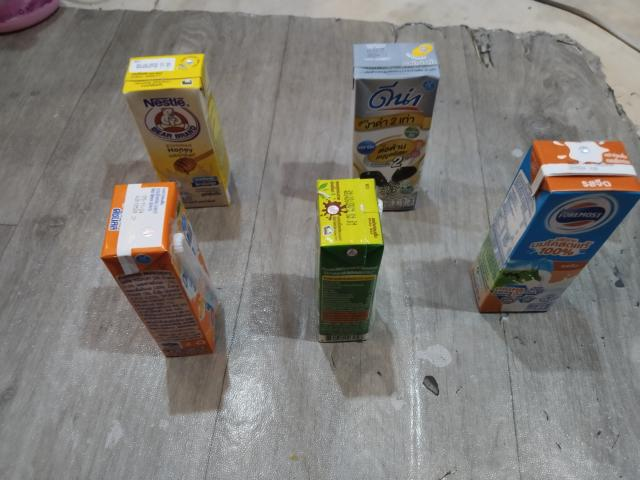drink_box: (458, 125, 638, 325), (88, 177, 228, 366), (344, 36, 446, 212), (123, 49, 240, 195), (306, 179, 388, 354)
